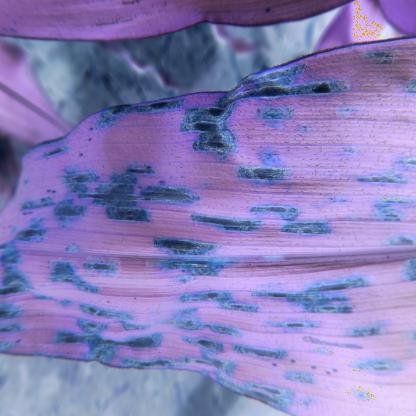Corn leaf blight: (4, 64, 416, 396)
